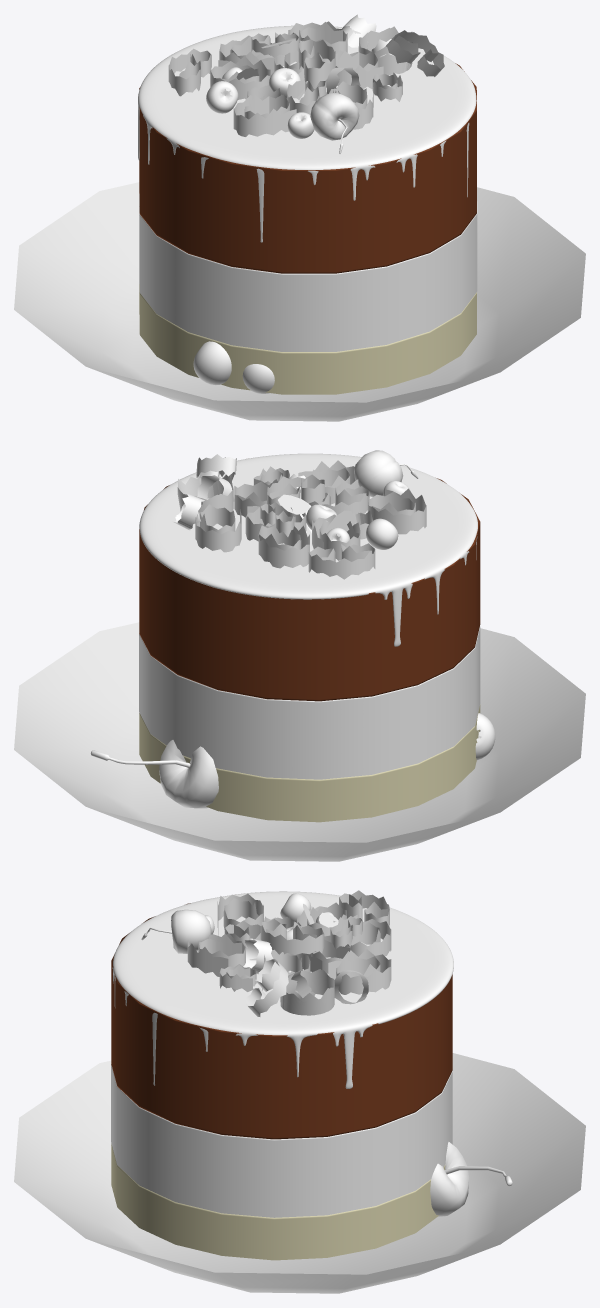
Rendered from gateau.glb.
3 renders of one model, top to bottom at view 1: azimuth 30°, elevation 25°; view 2: azimuth 150°, elevation 25°; view 3: azimuth 270°, elevation 25°, orthographic.
Parts seen in each view (by area): view 1: Circle.003, Circle.032; view 2: Circle.003, Circle.032; view 3: Circle.003, Circle.032.
Part boxes in pixels (x1,y1,x2,y2): Circle.003: [138, 14, 477, 394]; Circle.032: [14, 182, 585, 421]; Circle.003: [90, 450, 495, 822]; Circle.032: [14, 622, 585, 861]; Circle.003: [111, 890, 512, 1260]; Circle.032: [14, 1053, 585, 1293].
Bounding box in the file's own units: 0.2375 × 0.1401 × 0.2375.
